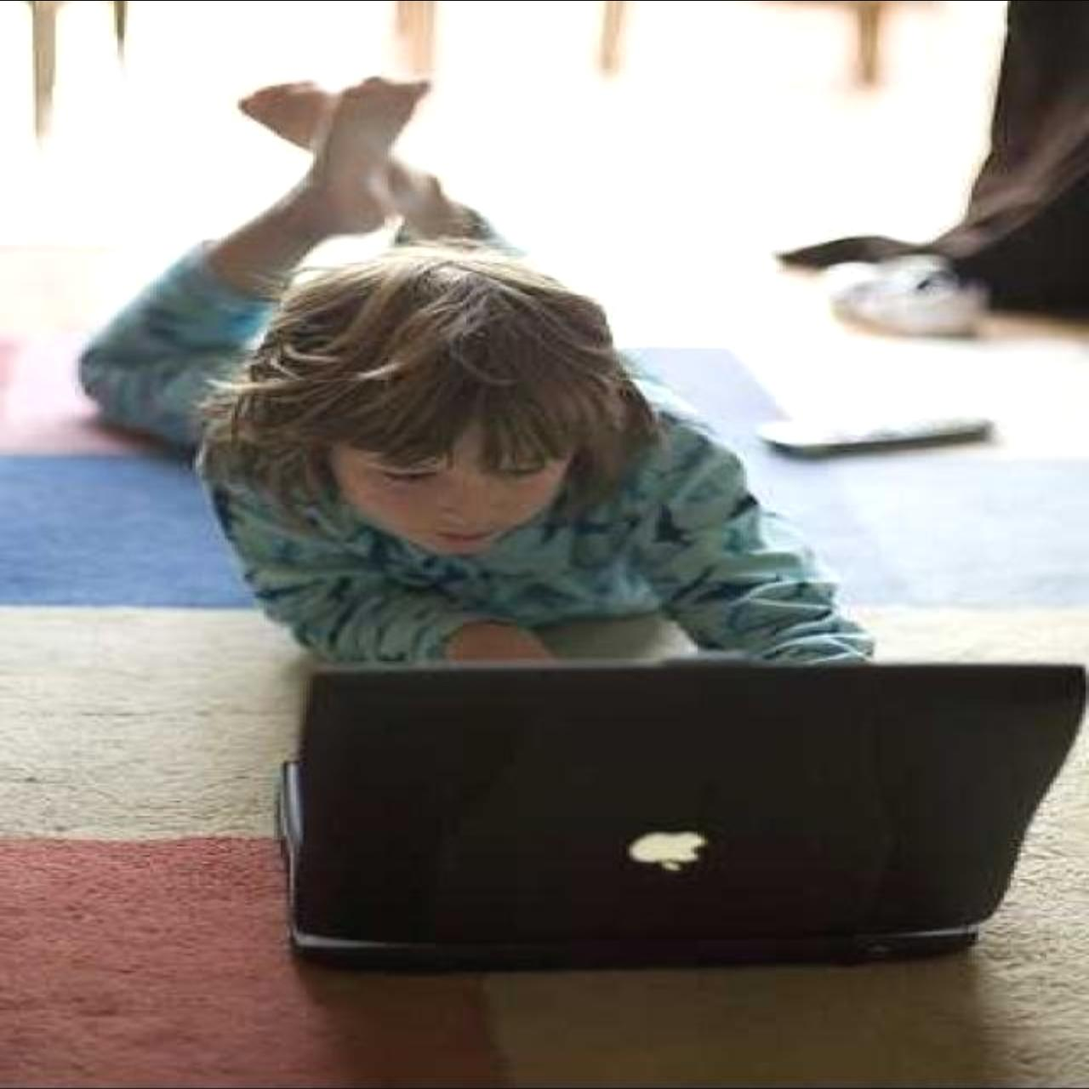laptop: (235, 640, 1089, 994)
